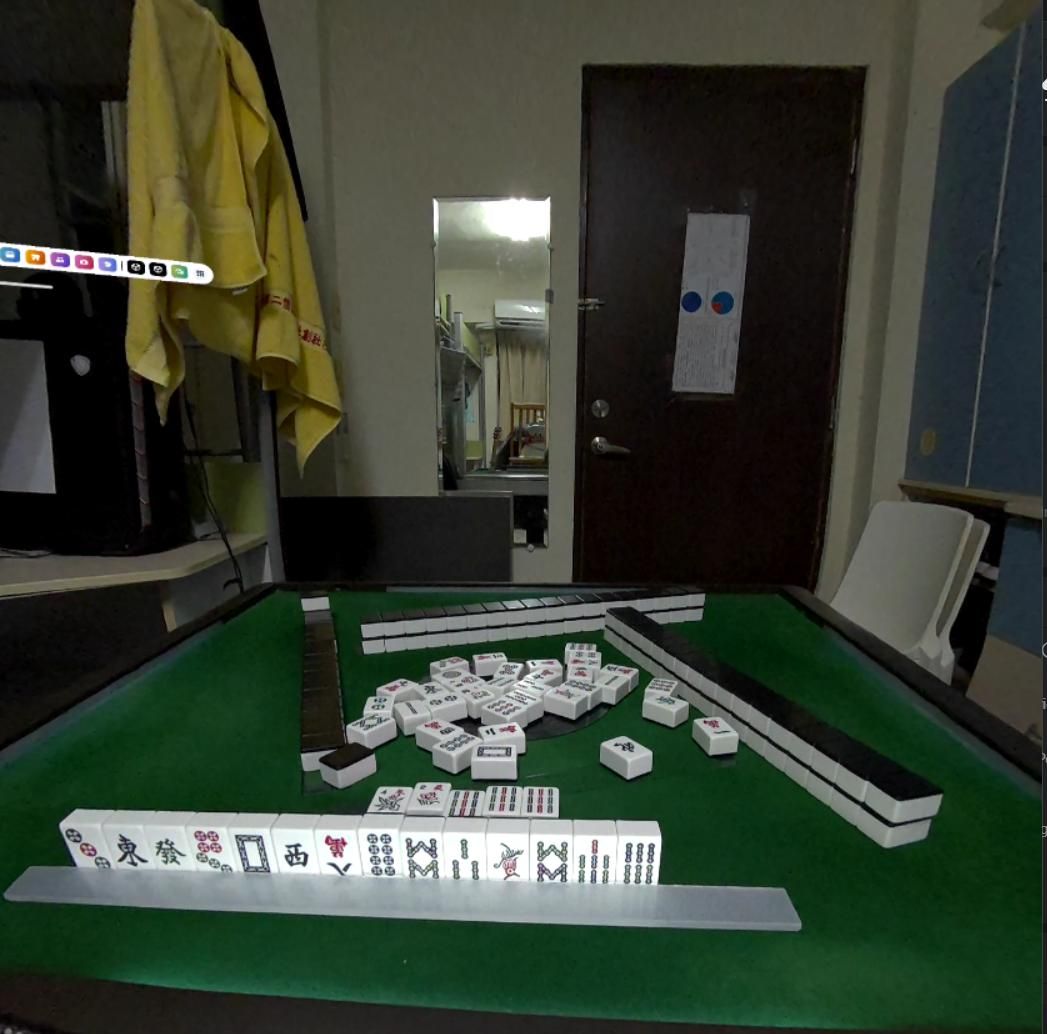mahjong: (398, 830, 446, 889), (438, 825, 486, 884), (572, 829, 619, 888), (272, 827, 326, 878), (183, 829, 235, 880), (488, 834, 533, 892), (317, 822, 361, 880), (63, 824, 111, 873), (620, 835, 661, 892), (230, 834, 278, 882), (532, 834, 570, 889), (358, 834, 401, 882), (107, 825, 147, 872), (150, 832, 186, 877)
